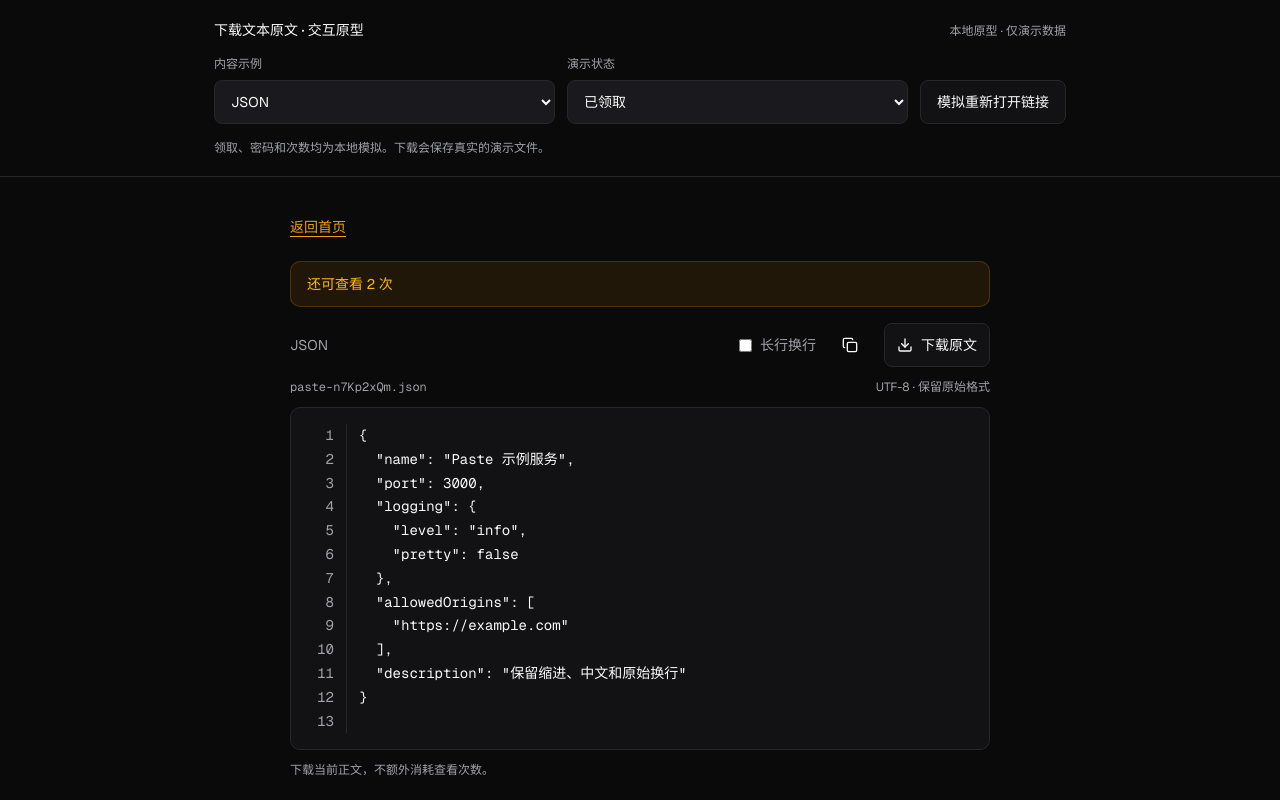
Test case: 下载文本原文原型 › offers no download for unavailable state expired
This screenshot has width=1280, height=800.
Select "已过期" in the dropdown labelled "演示状态": (738,102) [567,80,908,124]
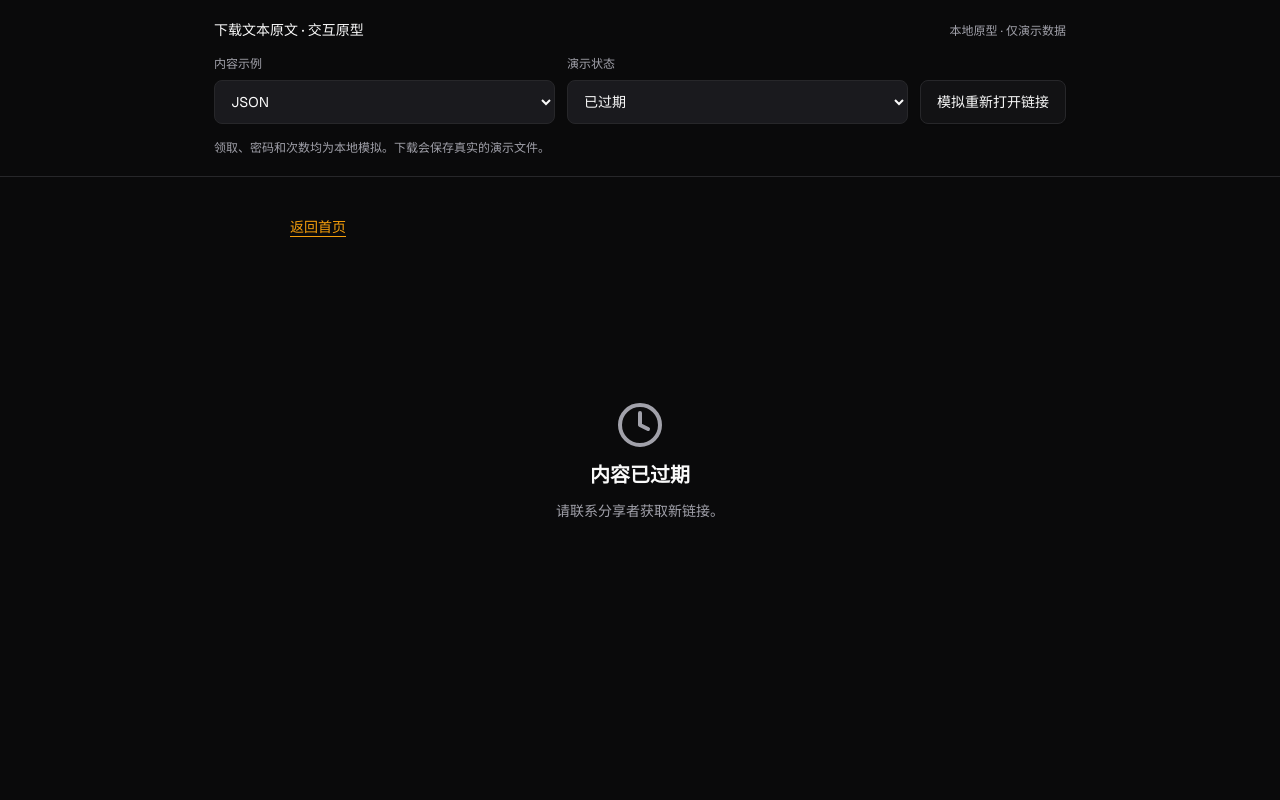
Result: the button "下载原文" is gone
